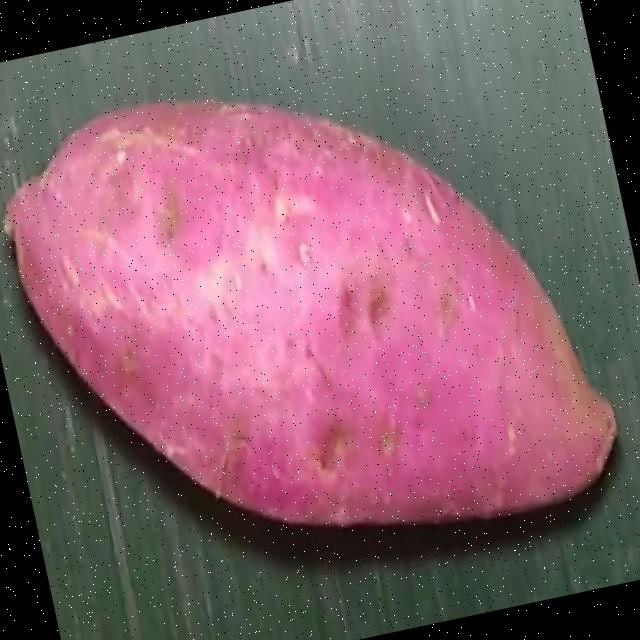Sweet Potato: (5, 95, 621, 526)
